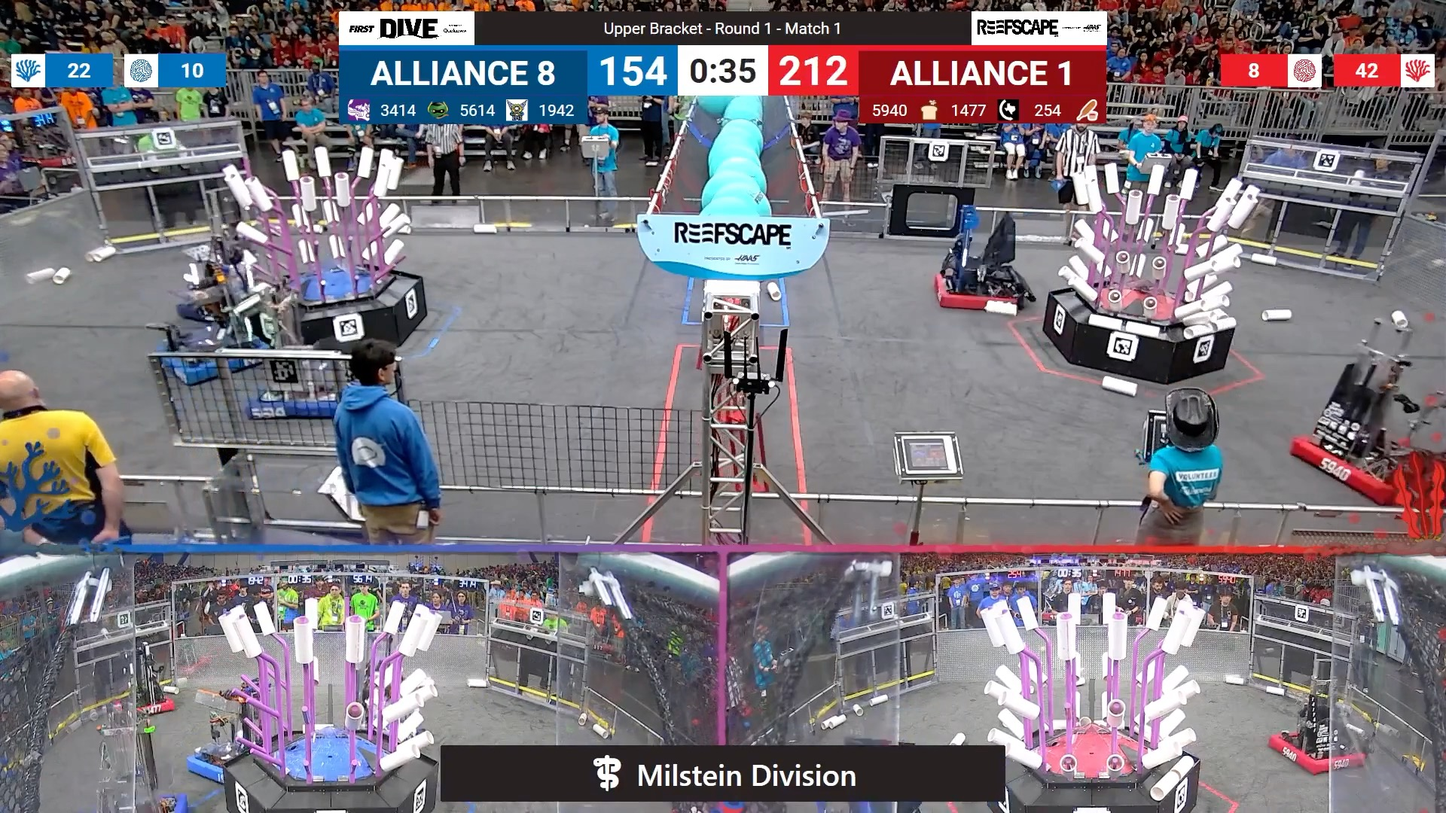bumpers: (1279, 425, 1439, 502), (247, 360, 363, 427), (1262, 726, 1374, 779), (149, 337, 268, 386), (930, 268, 1037, 318), (183, 740, 254, 782), (79, 791, 200, 813), (114, 693, 184, 721)
